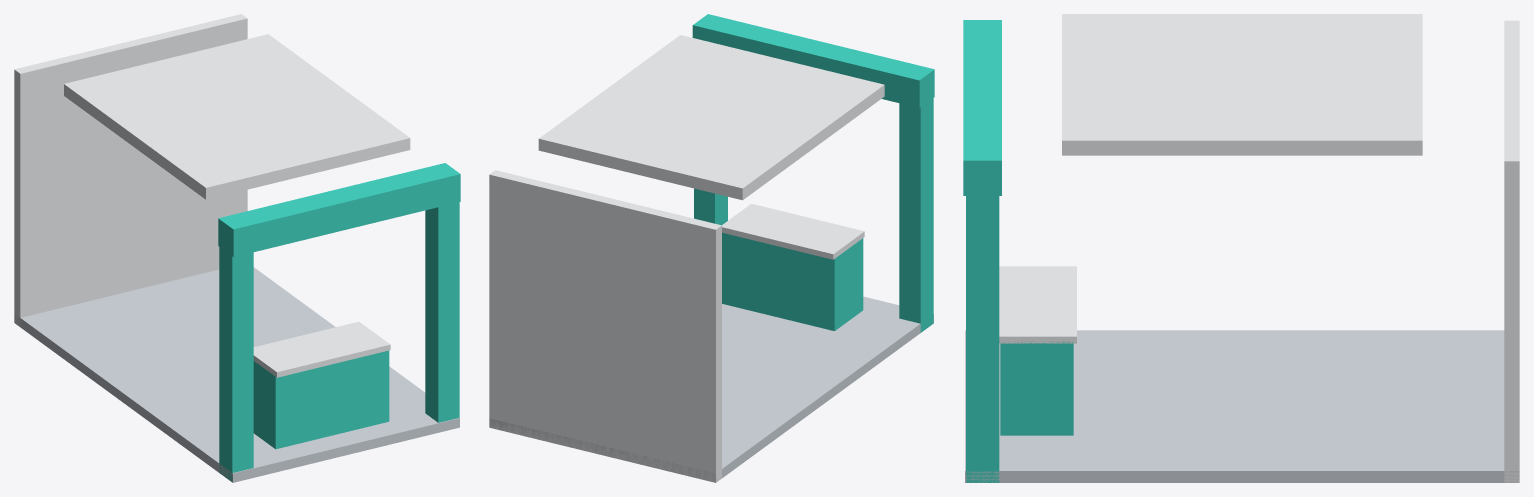
3 views of the same model, side by side, from view 1: azimuth 30°, elevation 25°; view 2: azimuth 150°, elevation 25°; view 3: azimuth 270°, elevation 25° (orthographic). The views are drawn at different scales.
Visible parts, largest first — view 1: Exhibition Booth Concept; view 2: Exhibition Booth Concept; view 3: Exhibition Booth Concept.
Boxes of the visible parts, x1=… form: Exhibition Booth Concept: x1=14, y1=14, x2=460, y2=482; Exhibition Booth Concept: x1=489, y1=14, x2=934, y2=482; Exhibition Booth Concept: x1=963, y1=14, x2=1519, y2=482.
Size of the model in its own units: 3 by 3.34 by 5.02.
